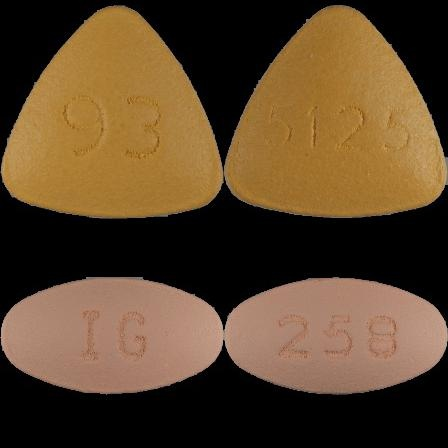63629-2672: (0, 0, 224, 224)
